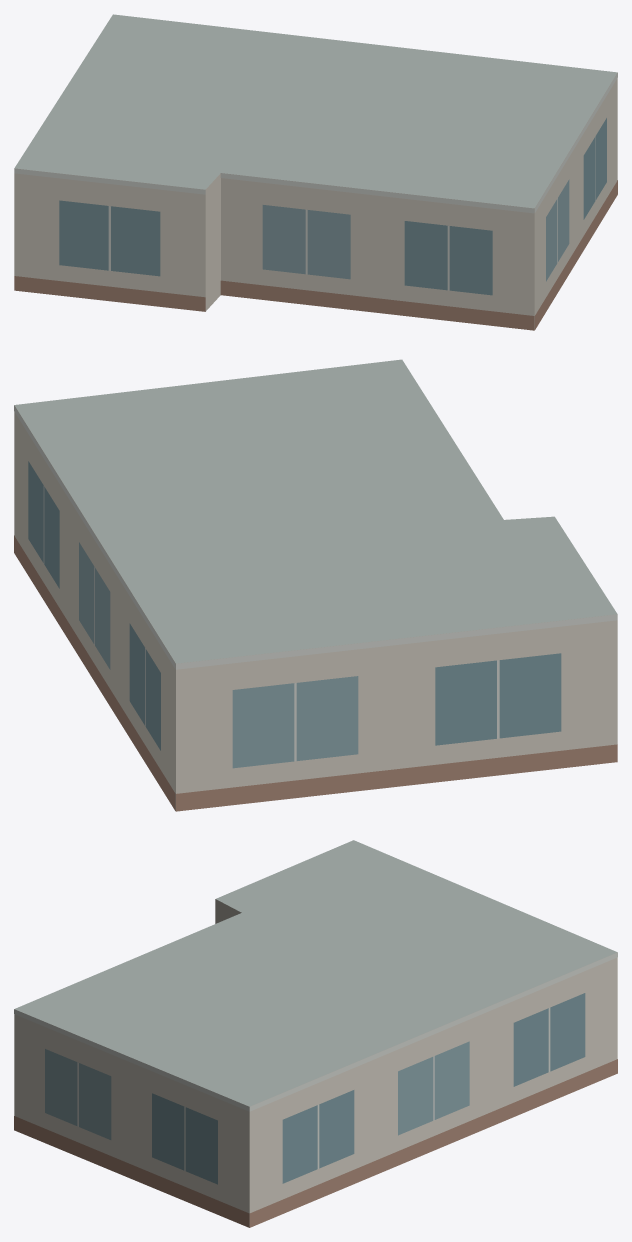
The model's file is survey-upis-32754634.glb.
3 views of the same model, one above another, from view 1: azimuth 30°, elevation 25°; view 2: azimuth 150°, elevation 25°; view 3: azimuth 270°, elevation 25° (orthographic). The views are drawn at different scales.
Visible parts, largest first — view 1: survey-upis-32754634.tmp; view 2: survey-upis-32754634.tmp; view 3: survey-upis-32754634.tmp.
Boxes of the visible parts, x1,y1,x2,y2 form: survey-upis-32754634.tmp: [14, 14, 617, 330]; survey-upis-32754634.tmp: [14, 359, 617, 811]; survey-upis-32754634.tmp: [14, 840, 617, 1227].
Size of the model in its own units: 14.41 by 3.05 by 13.79.
